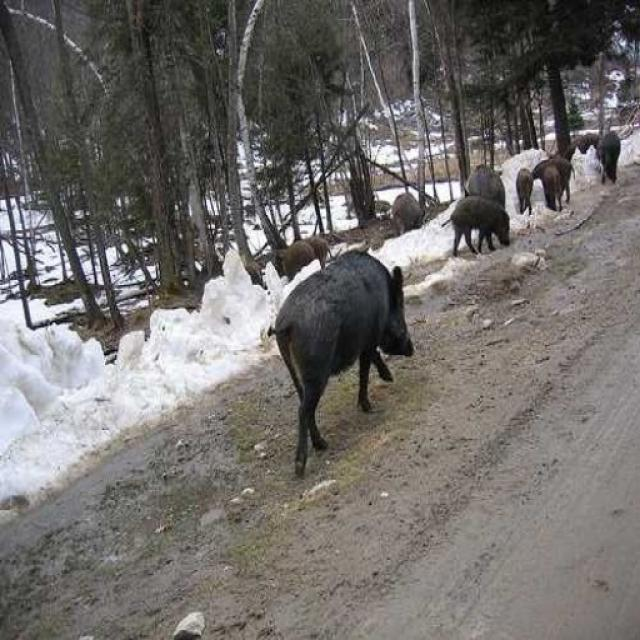pig: (185, 170, 392, 418), (418, 143, 489, 287), (438, 144, 527, 228), (511, 116, 579, 220), (568, 100, 629, 193)
